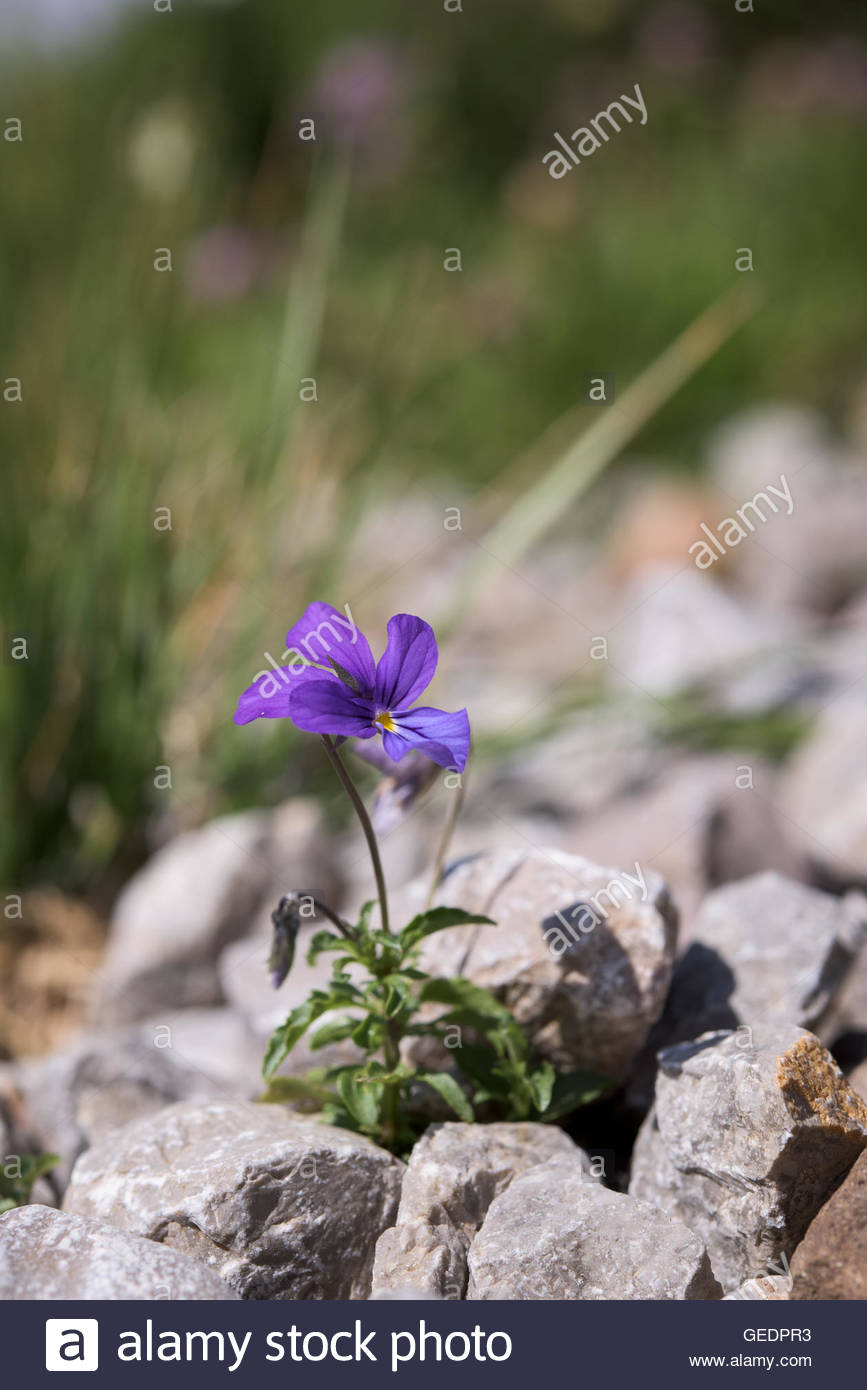violet: (248, 608, 481, 803)
